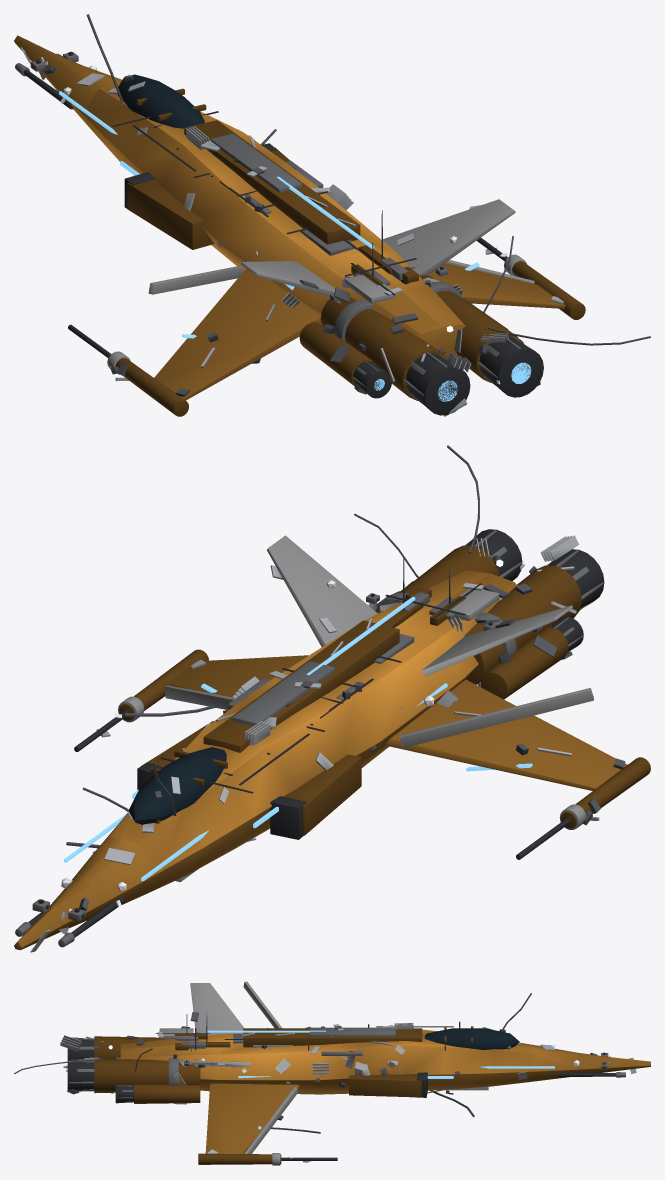
Rendered from ship_vanguard.glb.
The picture shows the model from 3 angles, top to bottom: view 1: azimuth 30°, elevation 25°; view 2: azimuth 150°, elevation 25°; view 3: azimuth 270°, elevation 25°; orthographic projection. The views are drawn at different scales.
Visible parts, largest first — view 1: ShipVanguard; view 2: ShipVanguard; view 3: ShipVanguard.
Boxes of the visible parts, <box> form: ShipVanguard: <box>14,14,650,416</box>; ShipVanguard: <box>14,445,650,952</box>; ShipVanguard: <box>14,981,650,1165</box>.
Bounding box in the file's own units: 9.11 × 3.53 × 19.22.
